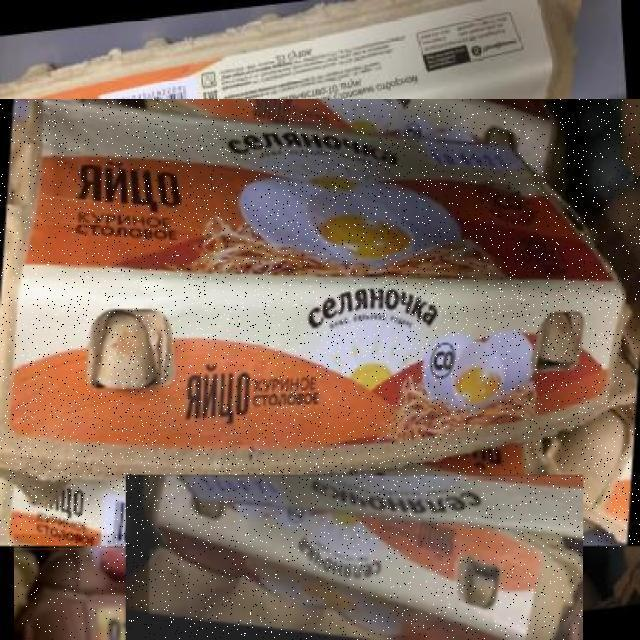Eggs: (0, 100, 640, 550), (126, 478, 583, 640), (14, 537, 149, 640)
